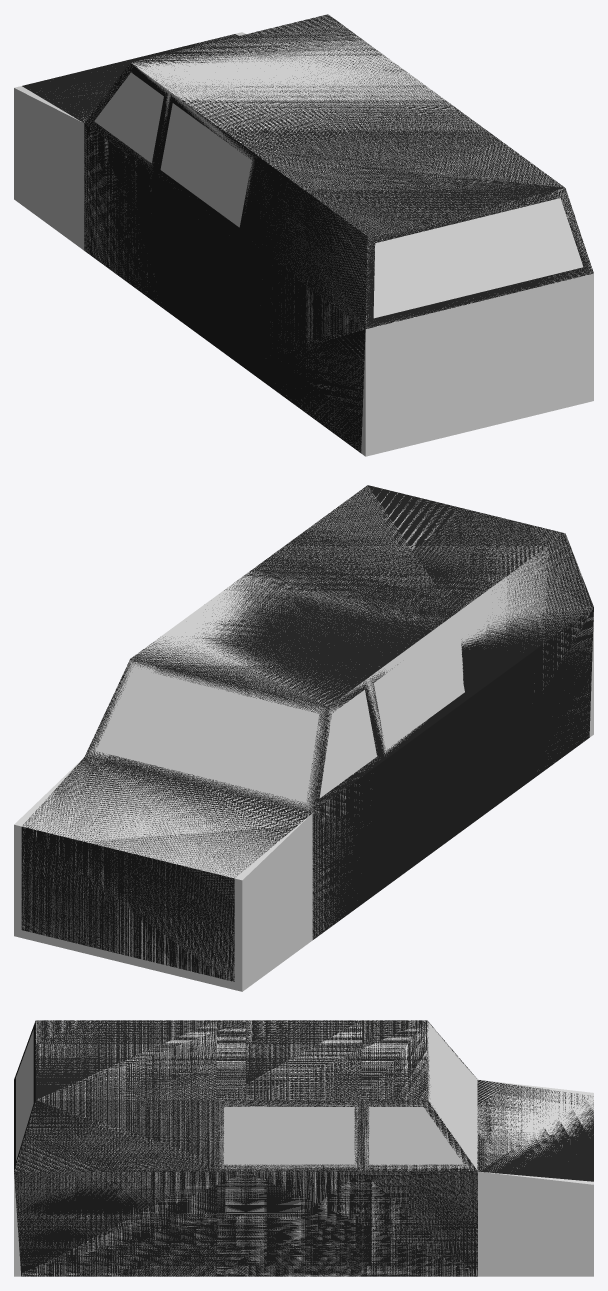
The model's file is van.glb.
The picture shows the model from 3 angles, top to bottom: view 1: azimuth 30°, elevation 25°; view 2: azimuth 150°, elevation 25°; view 3: azimuth 270°, elevation 25°; orthographic projection. The views are drawn at different scales.
Parts seen in each view (by area): view 1: COL_hull, vehicles/van, window.05, window.04, window.02; view 2: vehicles/van, COL_hull, window.04, window.02; view 3: vehicles/van, COL_hull, window.05, window.03, window.01.
Boxes of the visible parts, bbox=[...] form: COL_hull: bbox=[14, 14, 593, 456]; vehicles/van: bbox=[22, 14, 593, 453]; window.05: bbox=[373, 198, 582, 318]; window.04: bbox=[160, 103, 250, 227]; window.02: bbox=[94, 72, 163, 162]; vehicles/van: bbox=[21, 485, 593, 981]; COL_hull: bbox=[14, 485, 593, 991]; window.04: bbox=[374, 673, 464, 732]; window.02: bbox=[320, 689, 376, 797]; vehicles/van: bbox=[14, 1020, 593, 1276]; COL_hull: bbox=[14, 1020, 593, 1276]; window.05: bbox=[16, 1029, 33, 1160]; window.03: bbox=[224, 1107, 354, 1164]; window.01: bbox=[369, 1107, 453, 1164].
Size of the model in its own units: 1.88 by 1.62 by 5.
Materials: 2 (2 with a texture image).
